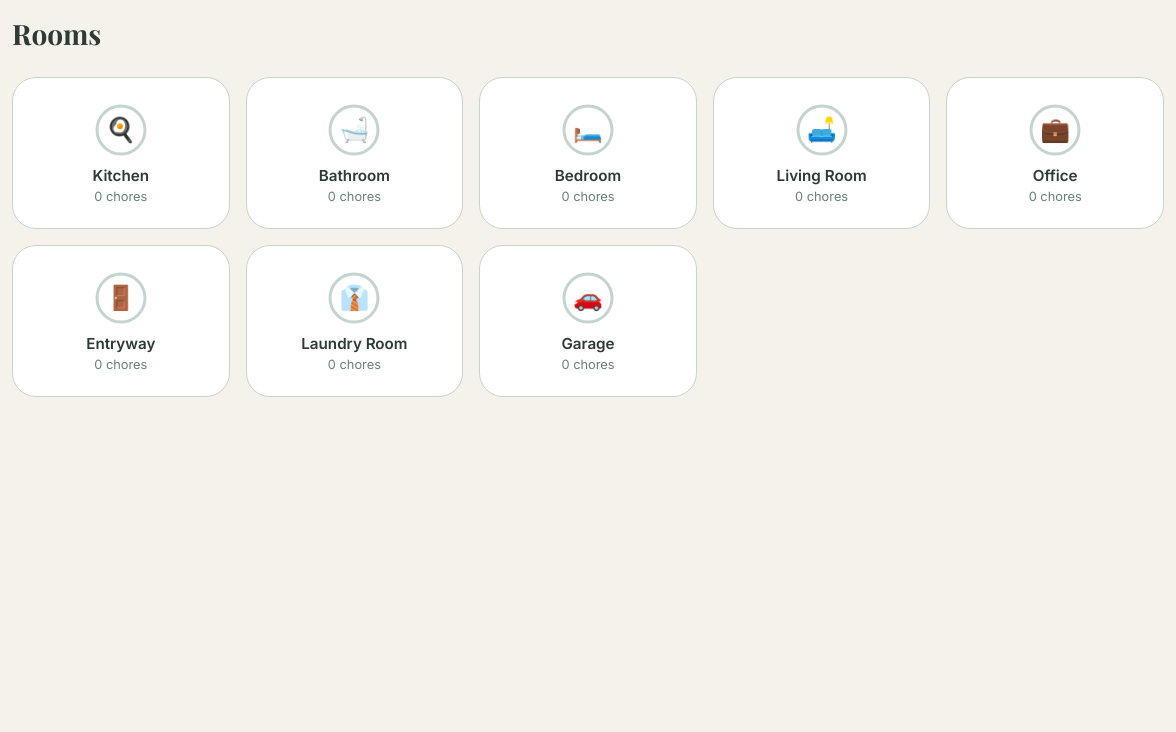
Test case: Rooms › room selection › hides room detail when the selected room is clicked again
The width and height of the screenshot is (1176, 732).
What coordinates should you click on to do the following:
click the button "🍳 Kitchen 0 chores"
I would click on:
 (121, 153)
Its box is 12,77 -> 230,229.
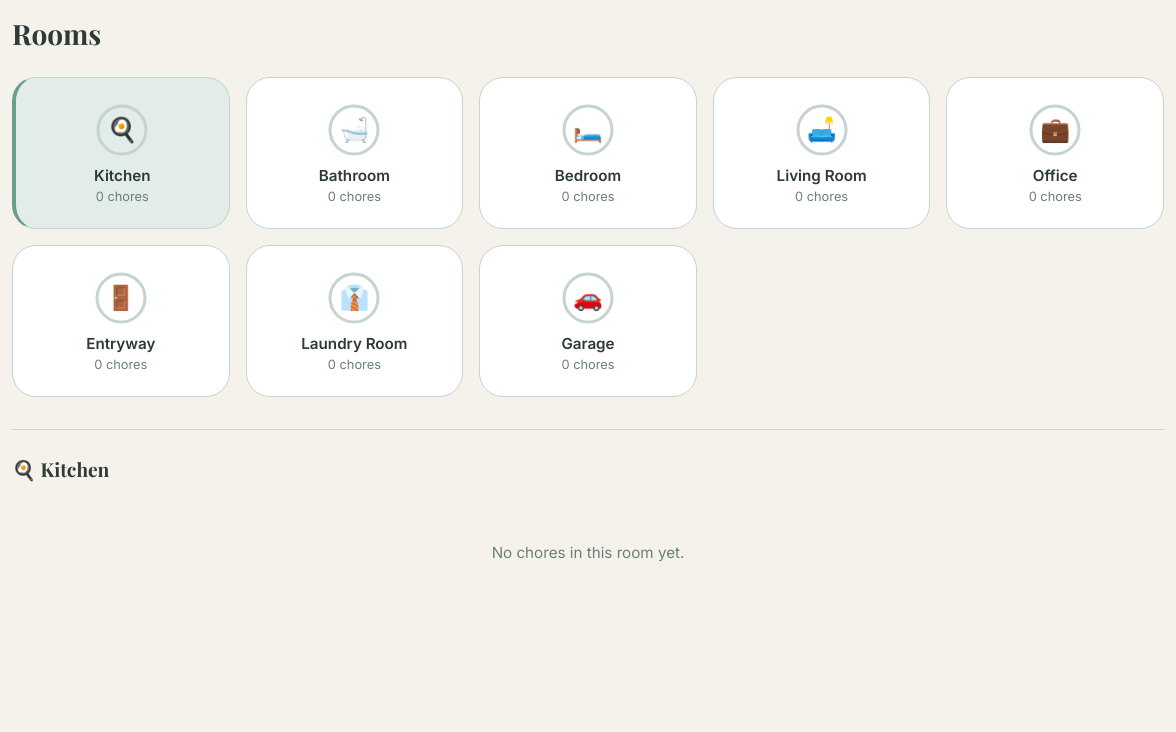
Now the element with class "room-detail" is shown, box 12,429 -> 1164,605
What coordinates should you click on to do the following:
click the button "🍳 Kitchen 0 chores"
I would click on:
 (121, 153)
Its box is 12,77 -> 230,229.
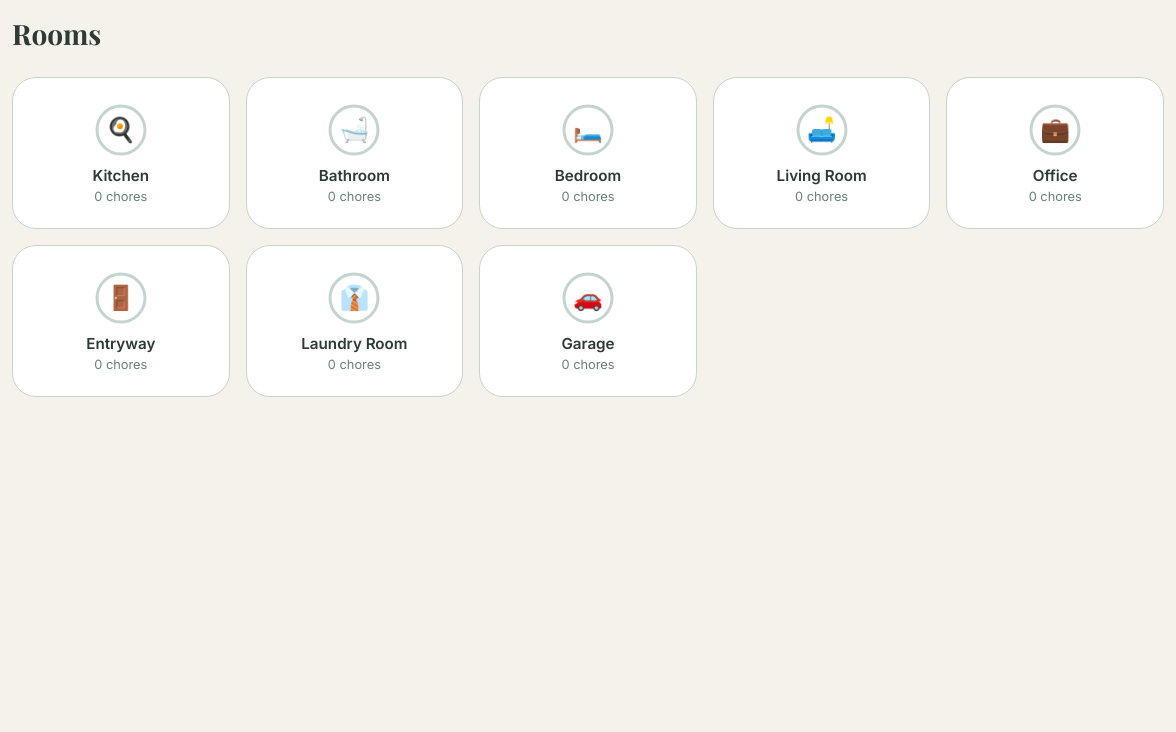
Now the element with class "room-detail" is gone
